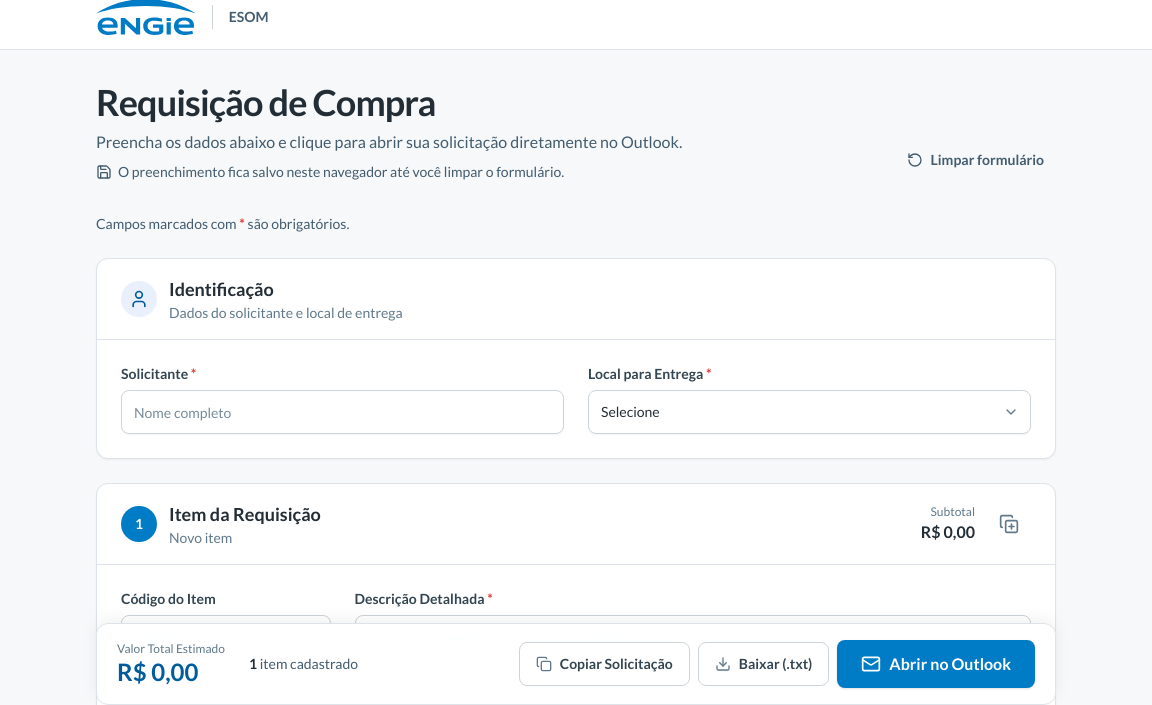
Test: App submission › marks invalid fields and moves focus to the first one
Click the button "Abrir no Outlook".
click(936, 664)  # box [837,640,1035,688]
(page scrolled)
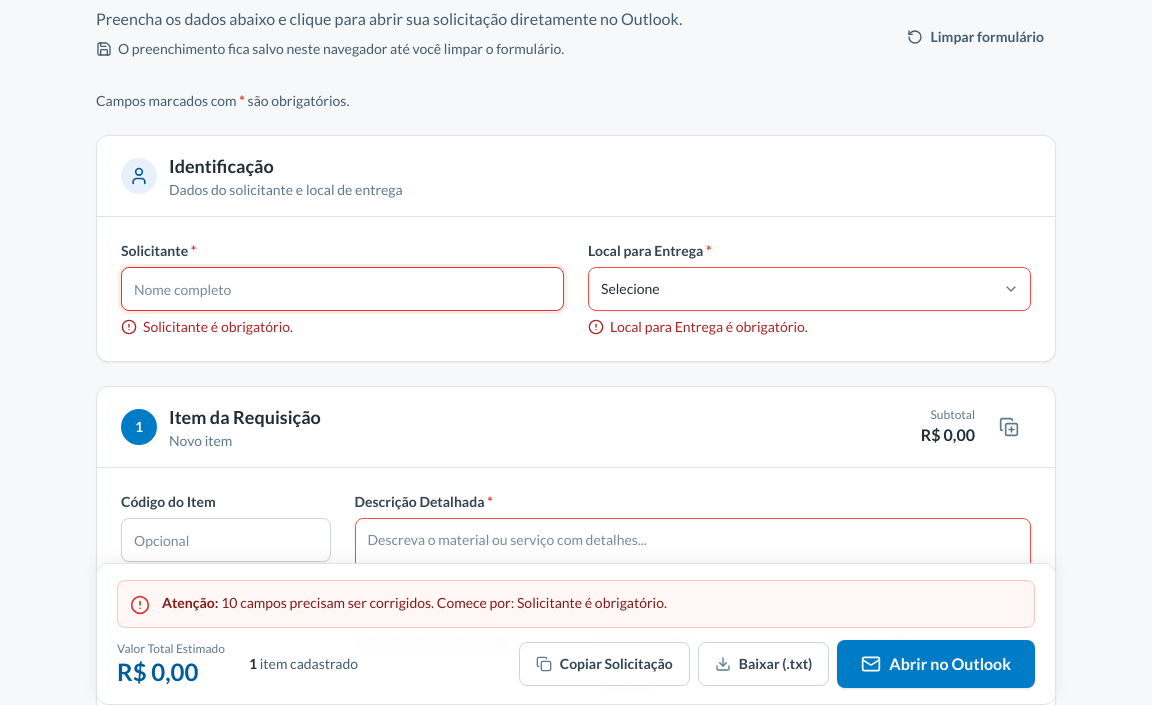
Result: the message shows "10 campos precisam ser corrigidos. Comece por: Solicitante é obrigatório." at [221,594,667,611]
